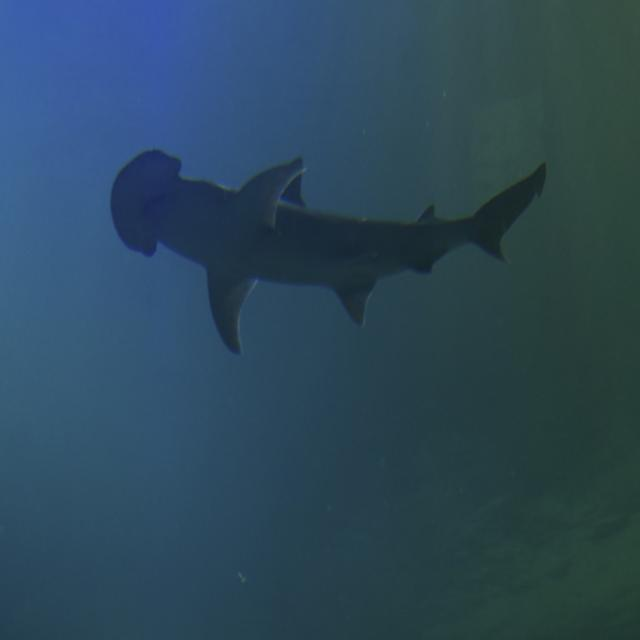Shark: (109, 144, 545, 357)
